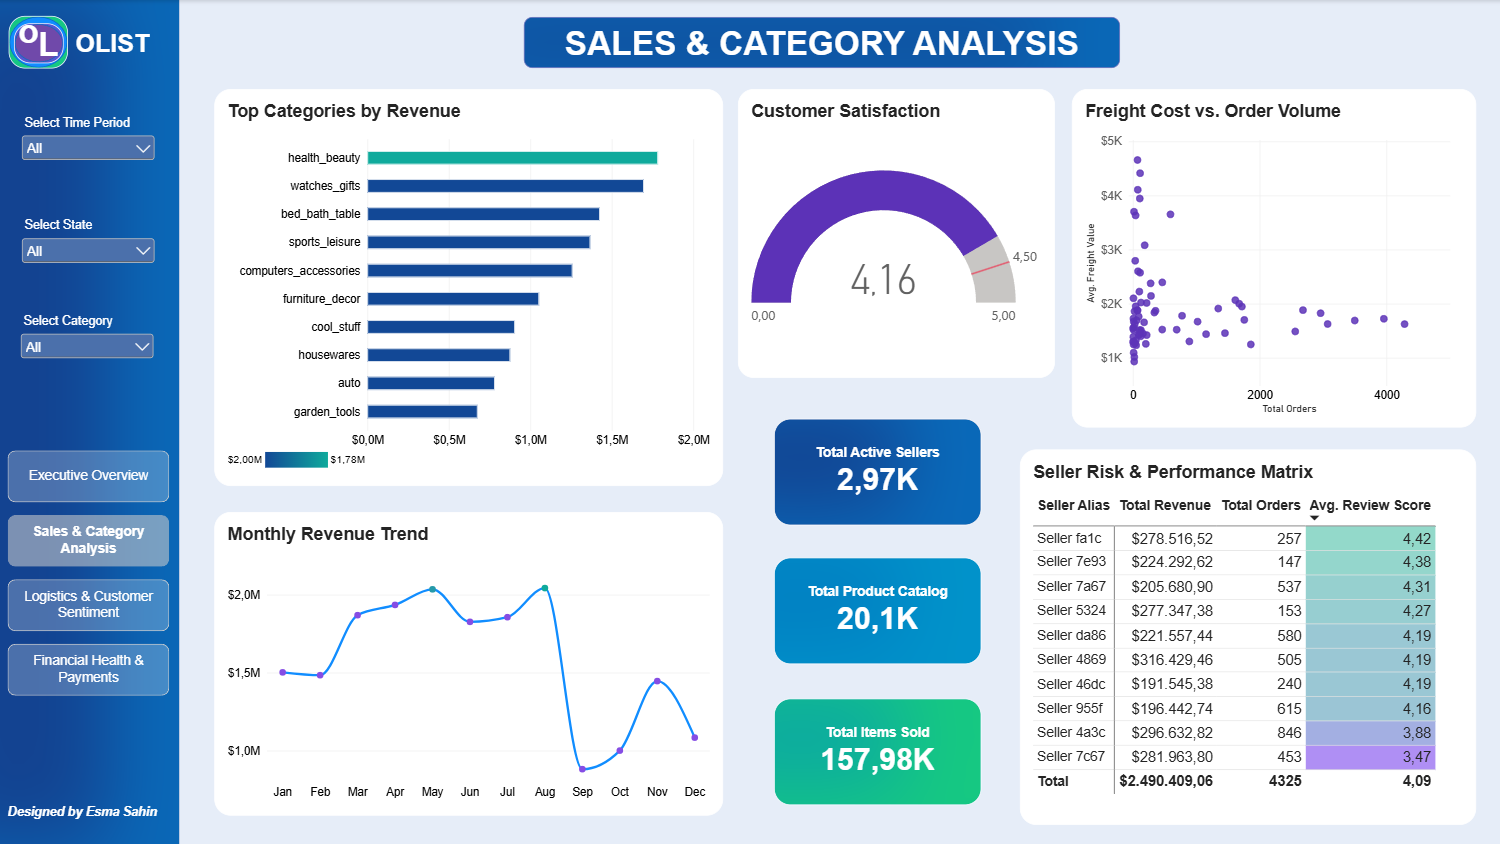

What the dashboard file says about the page in this screenshot:
{"tool":"powerbi","page":{"name":"Sales & Category Analysis","canvas":[1920,1080],"ordinal":1},"visuals":[{"type":"shape","box":[0,0,232.2,1080.1],"z":0},{"type":"shape","box":[15.2,20.8,75.8,67],"z":0,"group":"g1"},{"type":"slicer","fields":{"Values":["06_fact_order_items.order_purchase_date.Variation.Jerarquía de fechas.Año","06_fact_order_items.order_purchase_date.Variation.Jerarquía de fechas.Mes"]},"box":[28.2,146.9,178.8,74.2],"z":0,"group":"g2"},{"type":"shape","box":[22,29.7,63.5,50.8],"z":1000,"group":"g1"},{"type":"scatterChart","title":"Freight Cost vs. Order Volume","fields":{"Category":["07_dim_products.product_category_name_english"],"Y":["Avg(06_fact_order_items.freight_value)"],"X":["06_fact_order_items.order_id"]},"box":[1369.2,113.5,515.4,430.8],"z":1000},{"type":"slicer","fields":{"Values":["08_dim_customers.customer_state"]},"box":[28.2,278.1,178.8,69.7],"z":1000,"group":"g2"},{"type":"textbox","box":[27.5,16.3,72.5,81.9],"z":2000,"group":"g1"},{"type":"slicer","fields":{"Values":["07_dim_products.product_category_name_english"]},"box":[26.6,400,178.8,81.8],"z":2000,"group":"g2"},{"type":"pivotTable","title":"Seller Risk & Performance Matrix","fields":{"Values":["select","Sum(06_fact_order_items.price)","Count(06_fact_order_items.order_id)","Avg(09_fact_reviews_and_logistics.review_score)"],"Rows":["06_fact_order_items.Seller Alias"]},"box":[1303.4,572.9,581.4,478],"z":2000},{"type":"textbox","box":[52.9,32.5,39.5,52.3],"z":3000,"group":"g1"},{"type":"textbox","box":[100,36.7,96.2,39.2],"z":3000,"group":"g2"},{"type":"clusteredBarChart","title":"Top Categories by Revenue","fields":{"Category":["07_dim_products.product_category_name_english"],"Y":["Sum(06_fact_order_items.price)"]},"box":[276.9,113.5,648.1,505.8],"z":3000},{"type":"group","id":"g1","title":"Group 1","box":[15.2,16.3,84.9,82.6],"z":4000,"group":"g2"},{"type":"cardVisual","fields":{"Data":["Count(06_fact_order_items.product_id)"]},"box":[989.8,710.2,264,136],"z":4000},{"type":"pageNavigator","box":[14.3,573.9,206.1,313.6],"z":5000,"group":"g2"},{"type":"cardVisual","fields":{"Data":["CountNonNull(06_fact_order_items.product_id)"]},"box":[989.8,889.8,264,136],"z":5000},{"type":"cardVisual","fields":{"Data":["Count(02_state_revenue_results.SELLER ID)"]},"box":[989.8,533.9,264,136],"z":6000},{"type":"textbox","box":[14.1,1025,192.2,28.1],"z":6000,"group":"g2"},{"type":"lineChart","title":"Monthly Revenue Trend","fields":{"Y":["Sum(06_fact_order_items.price)"],"Category":["06_fact_order_items.Month EN"]},"box":[276.9,651.9,648.1,386.5],"z":7000},{"type":"gauge","fields":{"Y":["Avg(09_fact_reviews_and_logistics.review_score)"]},"box":[944.1,113.6,403.4,367.8],"z":8000},{"type":"group","id":"g2","title":"Group 2","box":[14.1,16.3,206.3,1036.8],"z":9000},{"type":"textbox","box":[671.2,21.2,759.6,65.4],"z":10000}]}

Visuals, with their boxes on the page's 1920x1080 design canvas (x1, y1, x2, y2). These are canvas units, not pixel positions in the 1500x844 screenshot, which may show the page scaled, cropped or inside an application window:
shape: [left=0, top=0, right=232, bottom=1080]
shape: [left=15, top=21, right=91, bottom=88]
slicer - 06_fact_order_items.order_purchase_date.Variation.Jerarquía de fechas.Año x 06_fact_order_items.order_purchase_date.Variation.Jerarquía de fechas.Mes: [left=28, top=147, right=207, bottom=221]
shape: [left=22, top=30, right=86, bottom=80]
"Freight Cost vs. Order Volume" scatterChart: [left=1369, top=114, right=1885, bottom=544]
slicer - 08_dim_customers.customer_state: [left=28, top=278, right=207, bottom=348]
textbox: [left=28, top=16, right=100, bottom=98]
slicer - 07_dim_products.product_category_name_english: [left=27, top=400, right=205, bottom=482]
"Seller Risk & Performance Matrix" pivotTable: [left=1303, top=573, right=1885, bottom=1051]
textbox: [left=53, top=32, right=92, bottom=85]
textbox: [left=100, top=37, right=196, bottom=76]
"Top Categories by Revenue" clusteredBarChart: [left=277, top=114, right=925, bottom=619]
"Group 1" group: [left=15, top=16, right=100, bottom=99]
cardVisual - Count(06_fact_order_items.product_id): [left=990, top=710, right=1254, bottom=846]
pageNavigator: [left=14, top=574, right=220, bottom=888]
cardVisual - CountNonNull(06_fact_order_items.product_id): [left=990, top=890, right=1254, bottom=1026]
cardVisual - Count(02_state_revenue_results.SELLER ID): [left=990, top=534, right=1254, bottom=670]
textbox: [left=14, top=1025, right=206, bottom=1053]
"Monthly Revenue Trend" lineChart: [left=277, top=652, right=925, bottom=1038]
gauge - Avg(09_fact_reviews_and_logistics.review_score): [left=944, top=114, right=1348, bottom=481]
"Group 2" group: [left=14, top=16, right=220, bottom=1053]
textbox: [left=671, top=21, right=1431, bottom=87]
